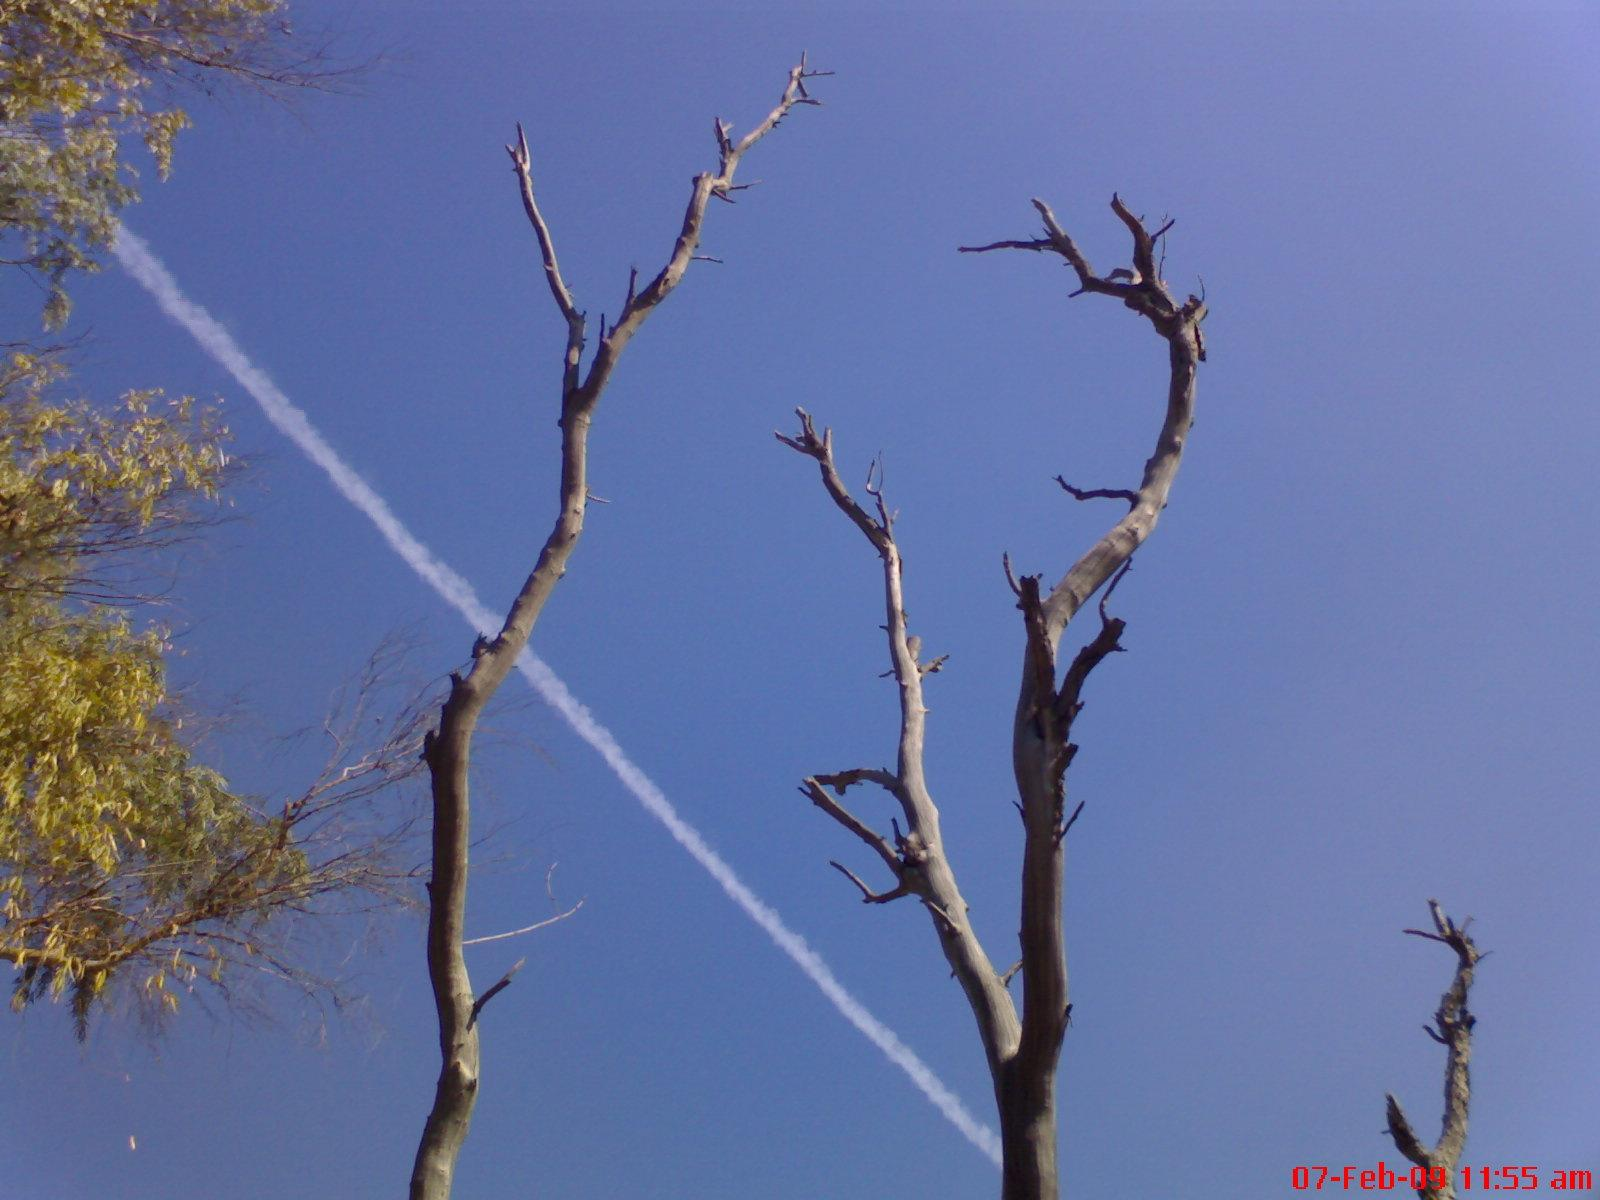baldness: (409, 55, 825, 1199), (779, 195, 1204, 1199), (1386, 900, 1482, 1199)
